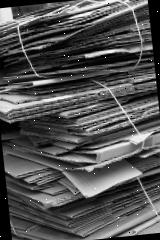paper: (62, 156, 144, 200)
